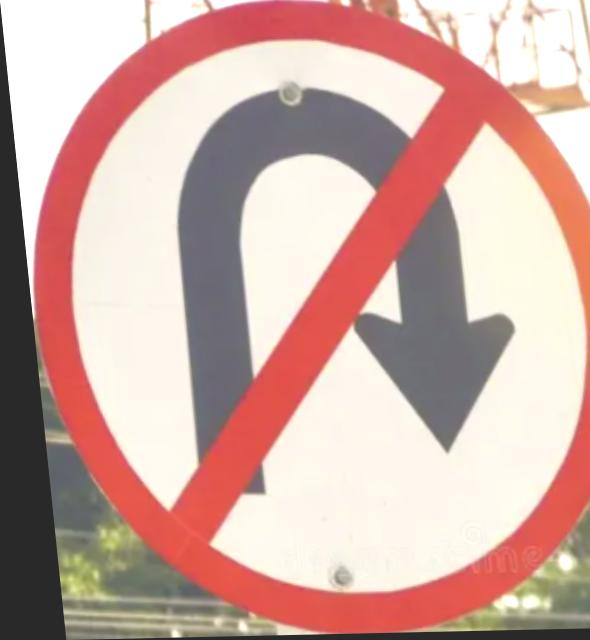not_u_turn_right: (10, 0, 590, 640)
